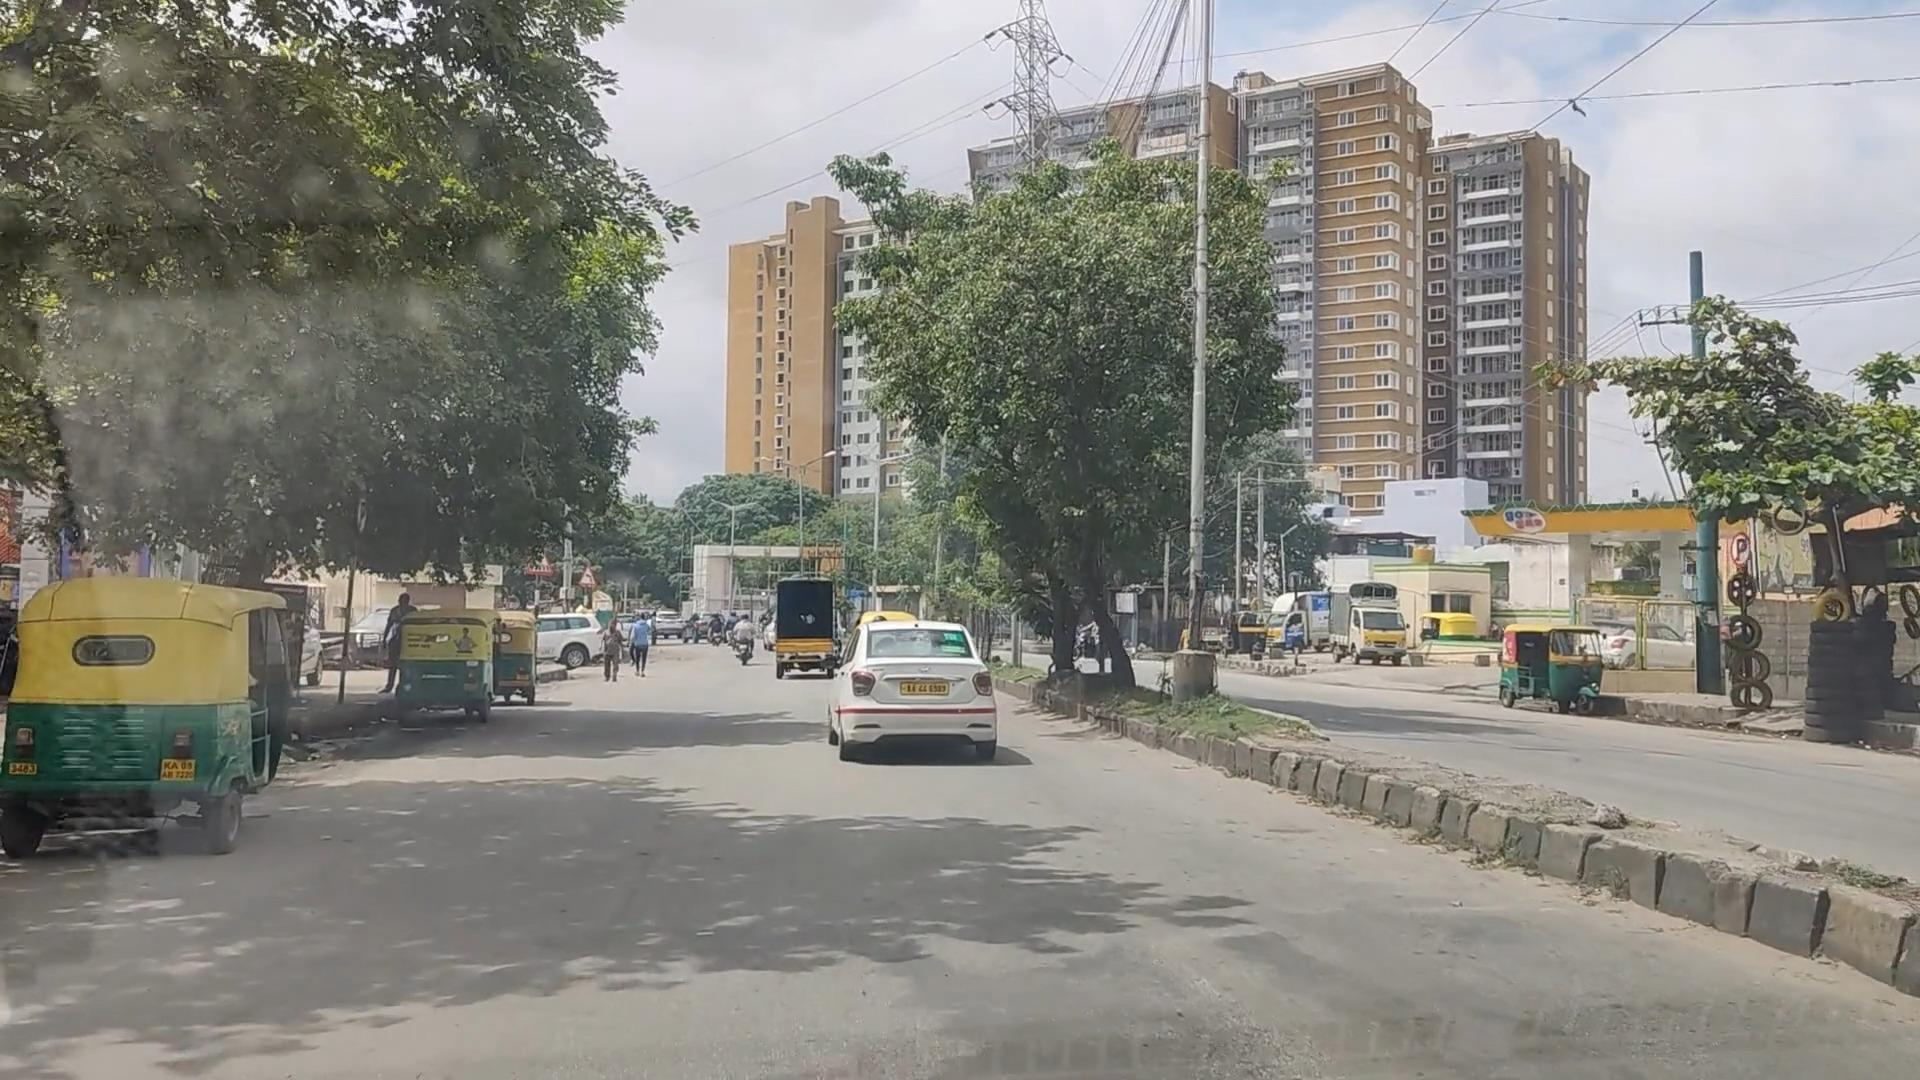LMV: (34, 576, 299, 819), (835, 604, 986, 744)
